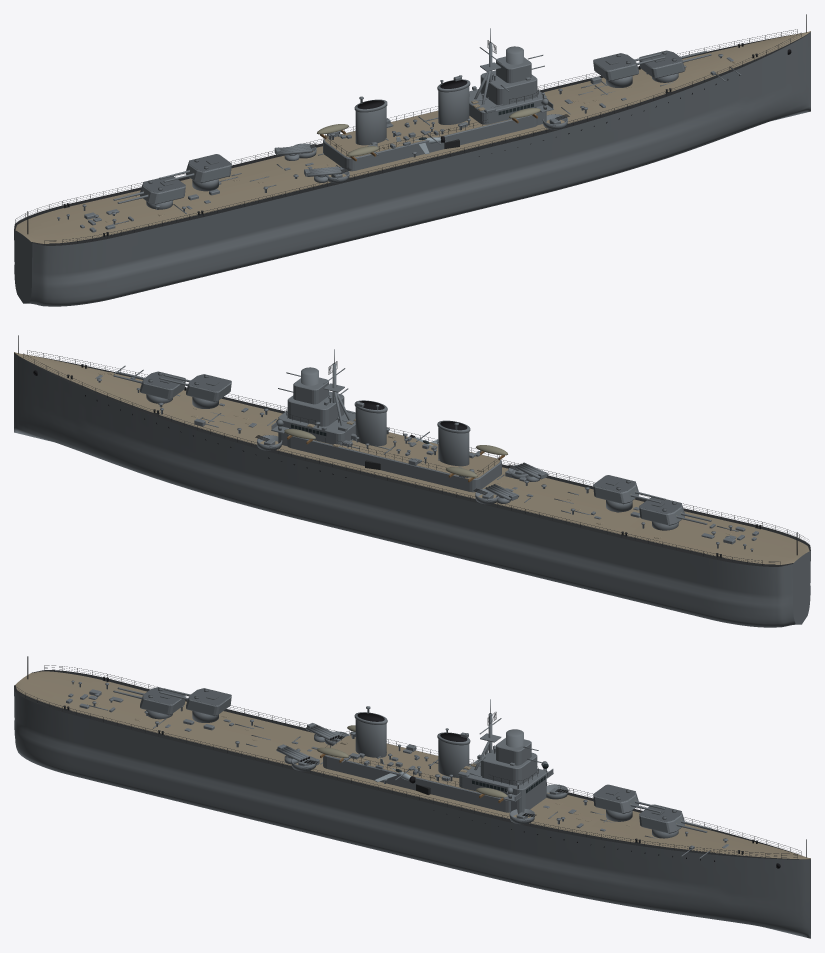
File: perth.glb
The picture shows the model from 3 angles, top to bottom: view 1: azimuth 30°, elevation 25°; view 2: azimuth 150°, elevation 25°; view 3: azimuth 330°, elevation 25°; orthographic projection.
Visible parts, largest first — view 1: perth, T_2_malla, T_3_malla, T_1_malla, T_0_malla; view 2: perth, T_2_malla, T_3_malla, T_1_malla, T_0_malla; view 3: perth, T_1_malla, T_0_malla, T_2_malla, T_3_malla.
Boxes of the visible parts, x1,y1,x2,y2 form: perth: [14, 14, 810, 306]; T_2_malla: [186, 154, 231, 183]; T_3_malla: [140, 176, 185, 204]; T_1_malla: [593, 53, 638, 80]; T_0_malla: [639, 50, 684, 78]; perth: [14, 335, 810, 627]; T_2_malla: [593, 475, 638, 504]; T_3_malla: [639, 497, 684, 525]; T_1_malla: [186, 374, 231, 401]; T_0_malla: [140, 371, 185, 399]; perth: [14, 656, 810, 938]; T_1_malla: [593, 784, 638, 813]; T_0_malla: [639, 804, 684, 833]; T_2_malla: [186, 688, 231, 716]; T_3_malla: [140, 687, 185, 715].
Size of the model in its own units: 171 by 33.5 by 18.43.
